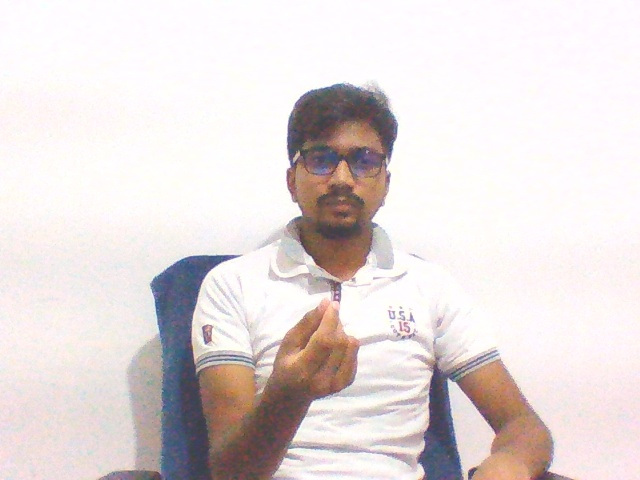dog: (265, 287, 367, 414)
